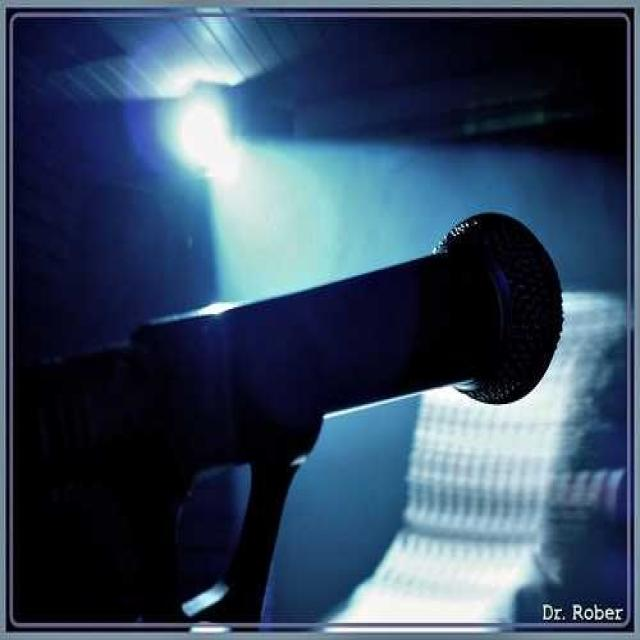microphone: (149, 208, 569, 448)
